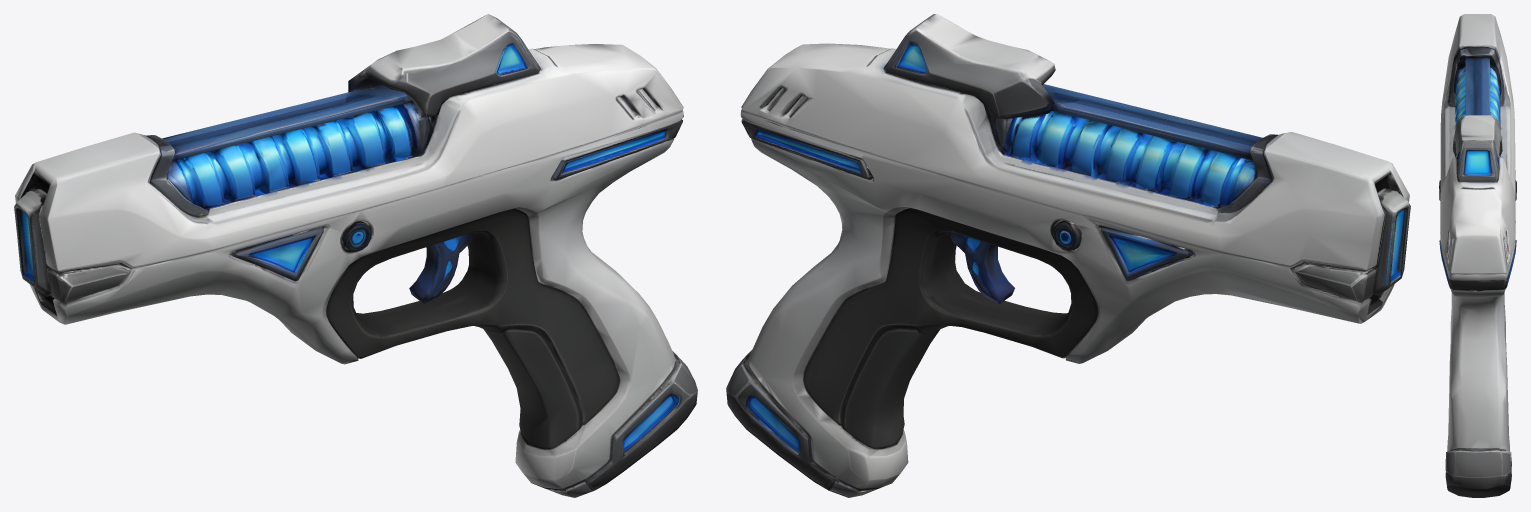
Rendered from Sleek Plasma Sidearm.glb.
The picture shows the model from 3 angles, left to right: view 1: azimuth 30°, elevation 25°; view 2: azimuth 150°, elevation 25°; view 3: azimuth 270°, elevation 25°; orthographic projection. The views are drawn at different scales.
Parts seen in each view (by area): view 1: Sleek Plasma Sidearm; view 2: Sleek Plasma Sidearm; view 3: Sleek Plasma Sidearm.
Part boxes in pixels (x1,y1,x2,y2): Sleek Plasma Sidearm: (14,14,697,497); Sleek Plasma Sidearm: (726,14,1410,497); Sleek Plasma Sidearm: (1439,14,1516,497).
Size of the model in its own units: 0.2689 by 0.1864 by 0.0396.
1 material, 1 textured.
